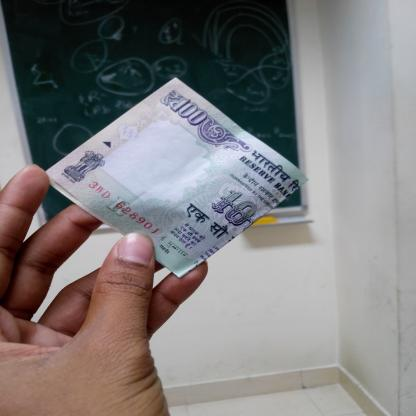Old100Front: (46, 77, 310, 279)
